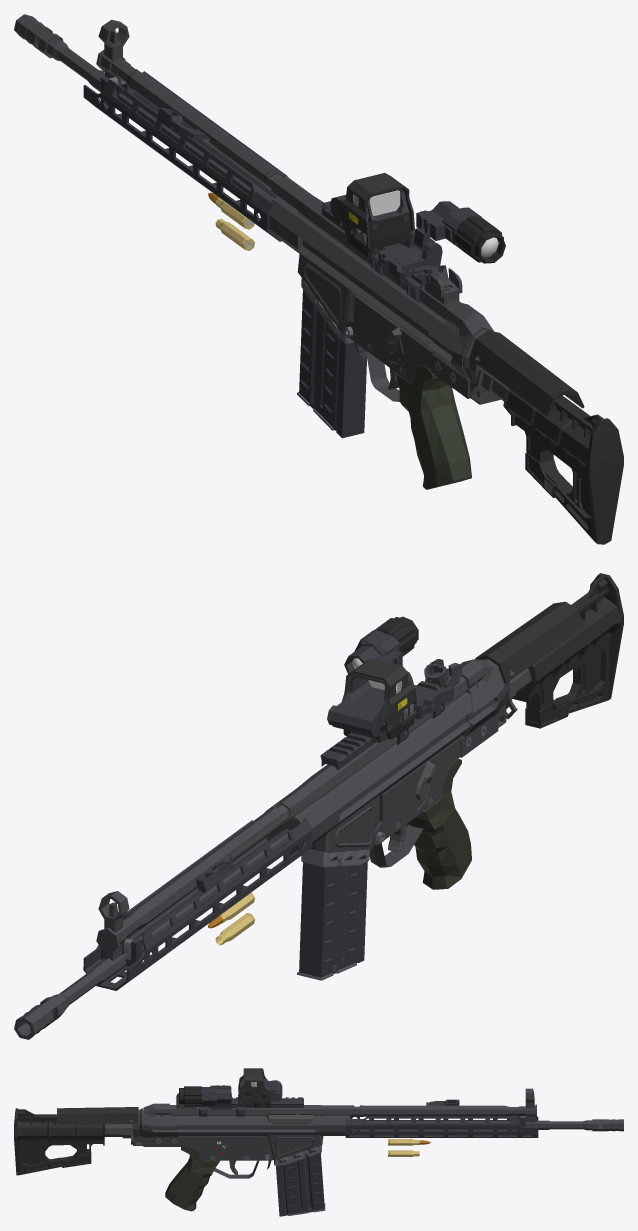
Rendered from G3_tactical.fbx.
The picture shows the model from 3 angles, top to bottom: view 1: azimuth 30°, elevation 25°; view 2: azimuth 150°, elevation 25°; view 3: azimuth 270°, elevation 25°; orthographic projection. The views are drawn at different scales.
Parts seen in each view (by area): view 1: main, stock, mag_waffle, handguard, stock_base, EXPS2, G33.STS, mount, top_rail; view 2: main, stock, mag_waffle, handguard, EXPS2, stock_base, G33.STS, top_rail, mount; view 3: main, stock, handguard, mag_waffle, stock_base, EXPS2, G33.STS, top_rail, bolt_carrier, 308.
Part boxes in pixels (bbox=[...]): main: bbox=[14, 14, 494, 489]; stock: bbox=[503, 388, 623, 544]; mag_waffle: bbox=[297, 278, 366, 438]; handguard: bbox=[83, 69, 288, 241]; stock_base: bbox=[463, 329, 584, 416]; EXPS2: bbox=[330, 173, 414, 256]; G33.STS: bbox=[414, 201, 505, 263]; mount: bbox=[378, 229, 442, 285]; top_rail: bbox=[320, 201, 431, 303]; main: bbox=[14, 659, 503, 1039]; stock: bbox=[512, 573, 623, 728]; mag_waffle: bbox=[297, 848, 369, 980]; handguard: bbox=[83, 818, 312, 990]; EXPS2: bbox=[327, 658, 416, 742]; stock_base: bbox=[475, 601, 584, 727]; G33.STS: bbox=[344, 616, 418, 673]; top_rail: bbox=[320, 681, 444, 770]; mount: bbox=[407, 671, 453, 719]; main: bbox=[143, 1088, 623, 1211]; stock: bbox=[14, 1108, 104, 1175]; handguard: bbox=[345, 1115, 538, 1137]; mag_waffle: bbox=[273, 1145, 325, 1216]; stock_base: bbox=[57, 1107, 143, 1145]; EXPS2: bbox=[238, 1068, 282, 1107]; G33.STS: bbox=[179, 1085, 231, 1106]; top_rail: bbox=[199, 1097, 303, 1116]; bolt_carrier: bbox=[269, 1106, 359, 1123]; 308: bbox=[388, 1139, 430, 1145].
Bounding box in the file's own units: 8.56 × 25.31 × 98.66.
